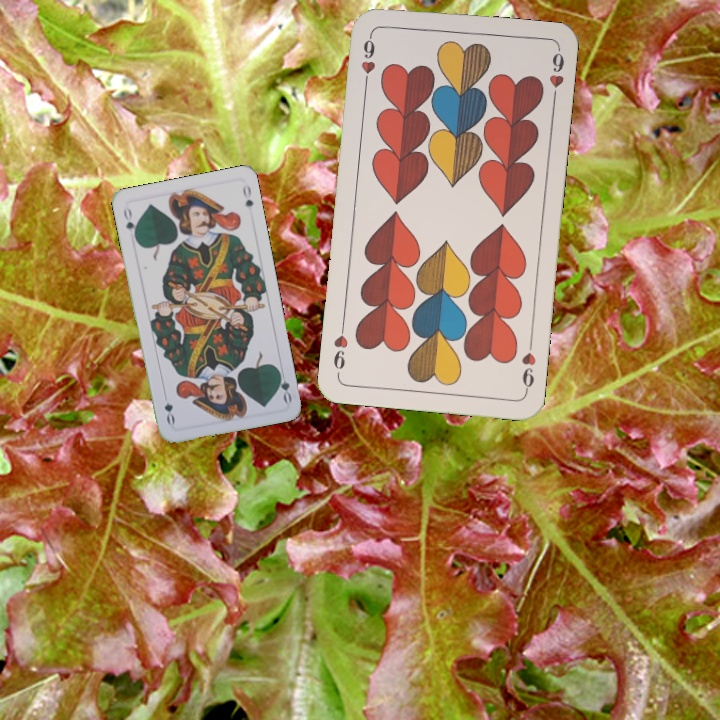GO: (274, 365, 294, 405), (119, 203, 139, 242)
H9: (357, 29, 378, 88), (518, 336, 538, 395)
